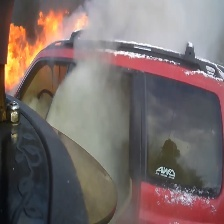fire: (3, 7, 73, 91)
